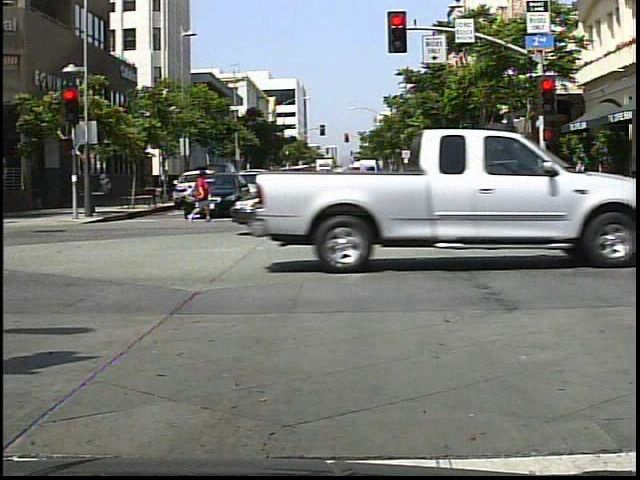person: (362, 163, 397, 232), (412, 161, 444, 225), (182, 167, 215, 226), (570, 157, 593, 206)
